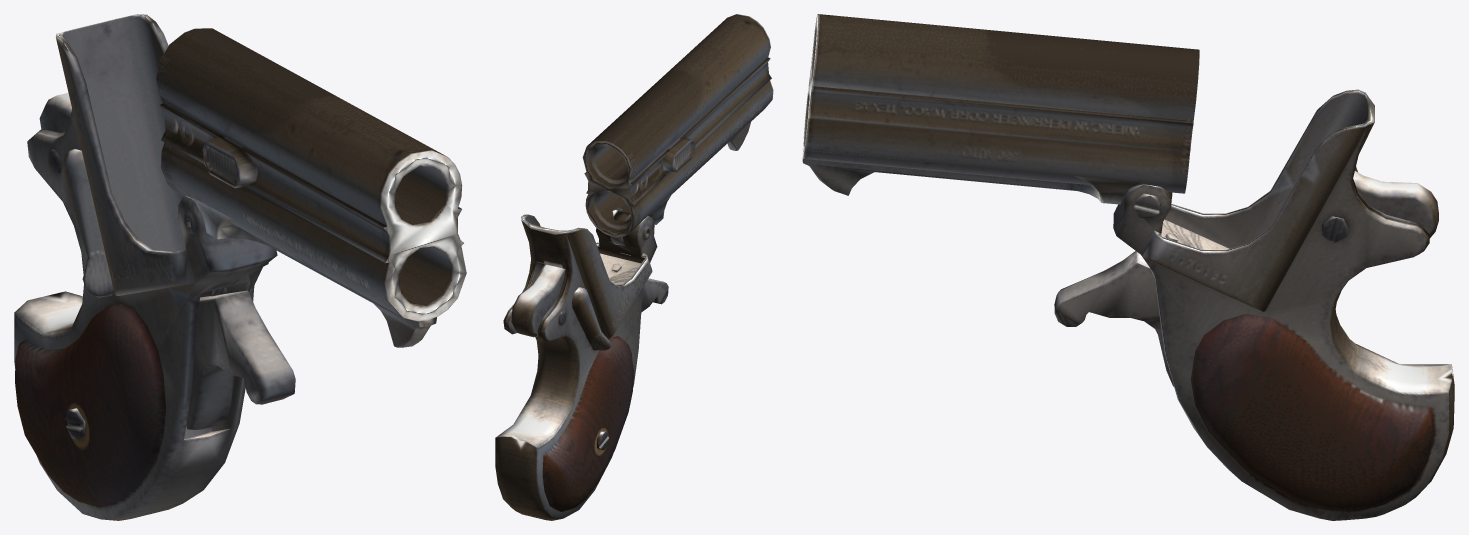
File: Derringer_OPEN.fbx
3 views of the same model, side by side, from view 1: azimuth 30°, elevation 25°; view 2: azimuth 150°, elevation 25°; view 3: azimuth 270°, elevation 25° (orthographic). The views are drawn at different scales.
Visible parts, largest first — view 1: Derringer.001; view 2: Derringer.001; view 3: Derringer.001.
Part boxes in pixels (x1=…): Derringer.001: x1=14, y1=14, x2=466, y2=520; Derringer.001: x1=495, y1=14, x2=773, y2=520; Derringer.001: x1=802, y1=14, x2=1454, y2=520.
Size of the model in its own units: 0.0225 by 0.1101 by 0.1318.
